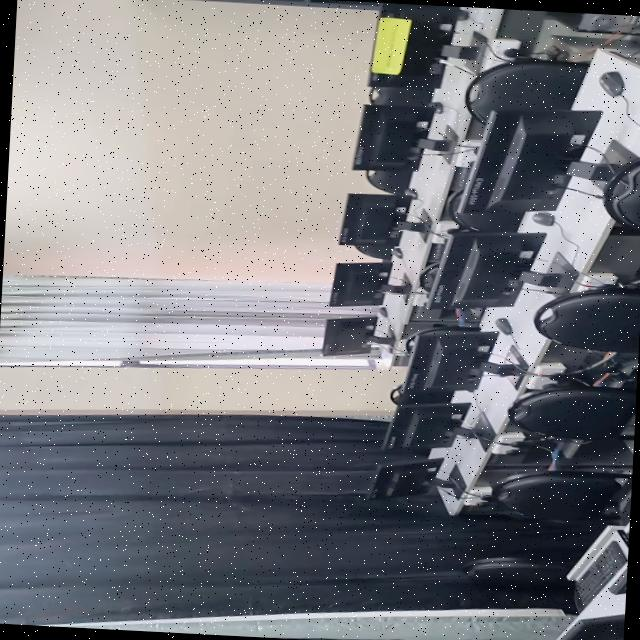Chair: (466, 58, 587, 124), (532, 284, 640, 352), (492, 470, 632, 521), (508, 386, 637, 440), (463, 558, 572, 591), (601, 157, 640, 230), (368, 87, 433, 107), (365, 169, 412, 195), (388, 384, 402, 405)
Keyboard: (575, 539, 627, 611)
Monitor: (455, 110, 601, 229), (424, 230, 545, 309), (366, 3, 460, 89), (403, 329, 497, 398), (351, 104, 434, 171), (338, 194, 434, 249), (328, 263, 426, 306), (383, 402, 470, 449), (367, 458, 442, 499), (321, 316, 394, 356), (557, 614, 625, 640), (608, 563, 628, 595)
Mouse: (597, 72, 623, 97), (532, 212, 553, 226), (494, 318, 511, 335), (427, 102, 443, 113), (404, 188, 416, 199), (390, 248, 401, 259), (378, 307, 385, 318)
